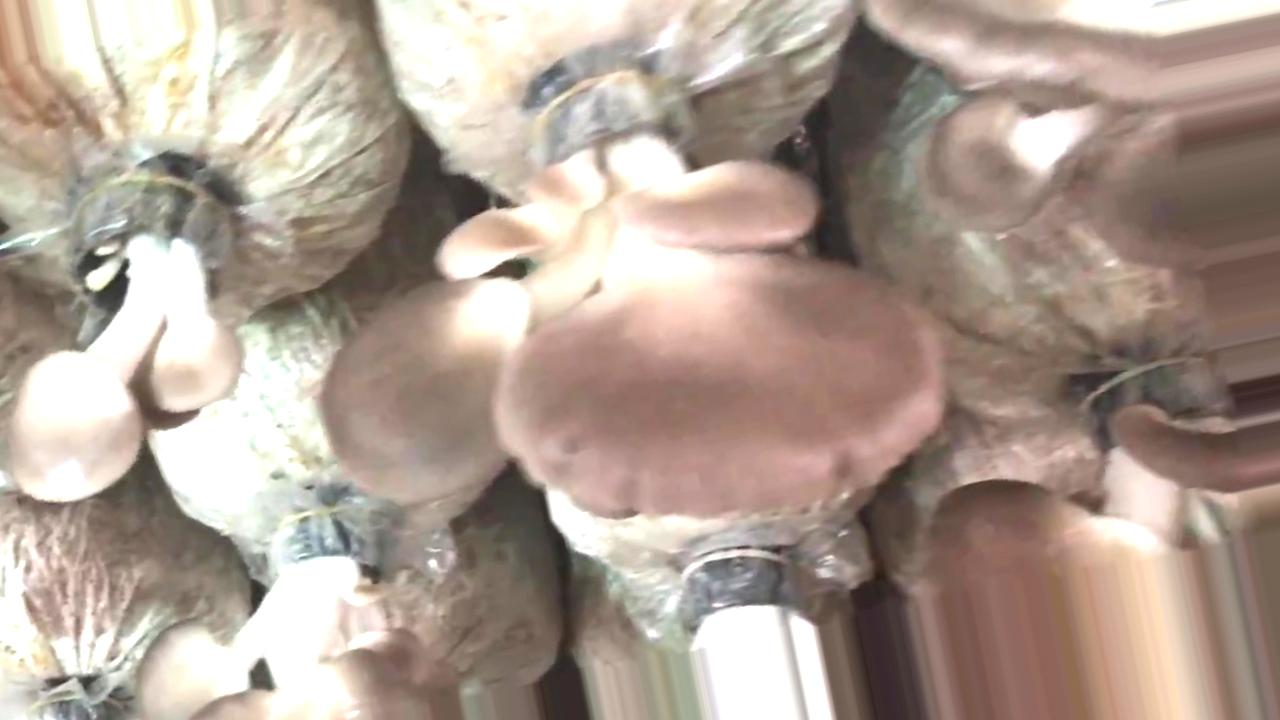nam: (324, 78, 939, 517), (924, 373, 1277, 717), (861, 1, 1280, 273), (13, 175, 243, 498), (142, 514, 456, 720)
